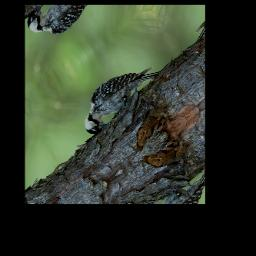Woodpecker: (73, 47, 165, 139)
